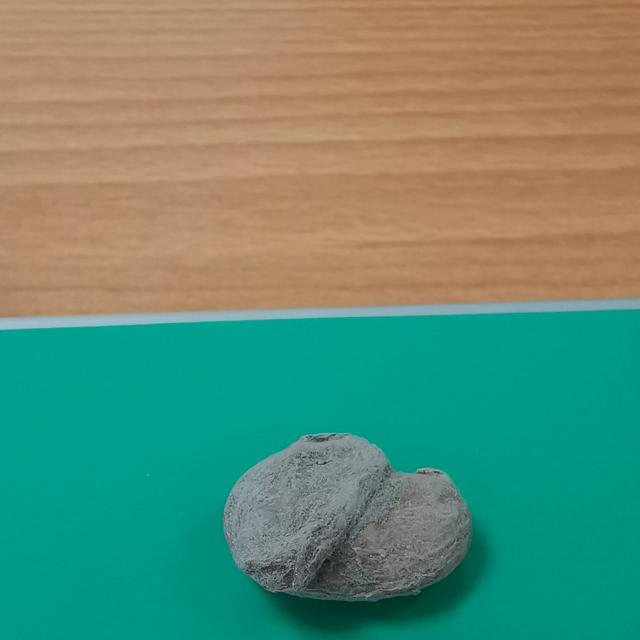Agglomerated_cocoabeans: (181, 411, 567, 638)
